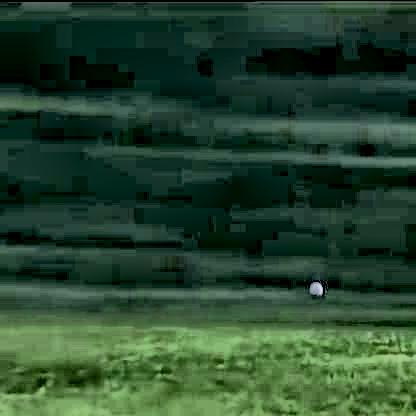golfball: (305, 279, 323, 297)
